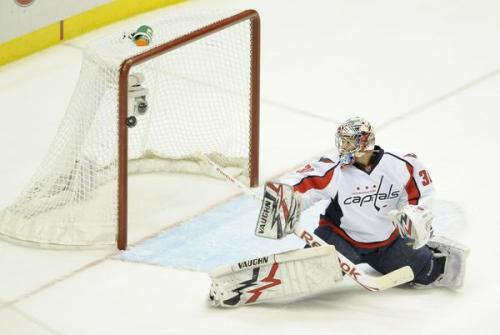fall: (264, 106, 457, 300)
